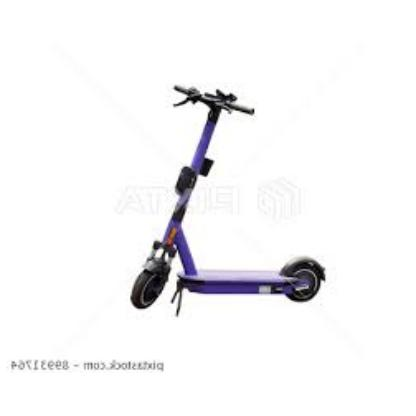bike: (130, 85, 327, 317)
